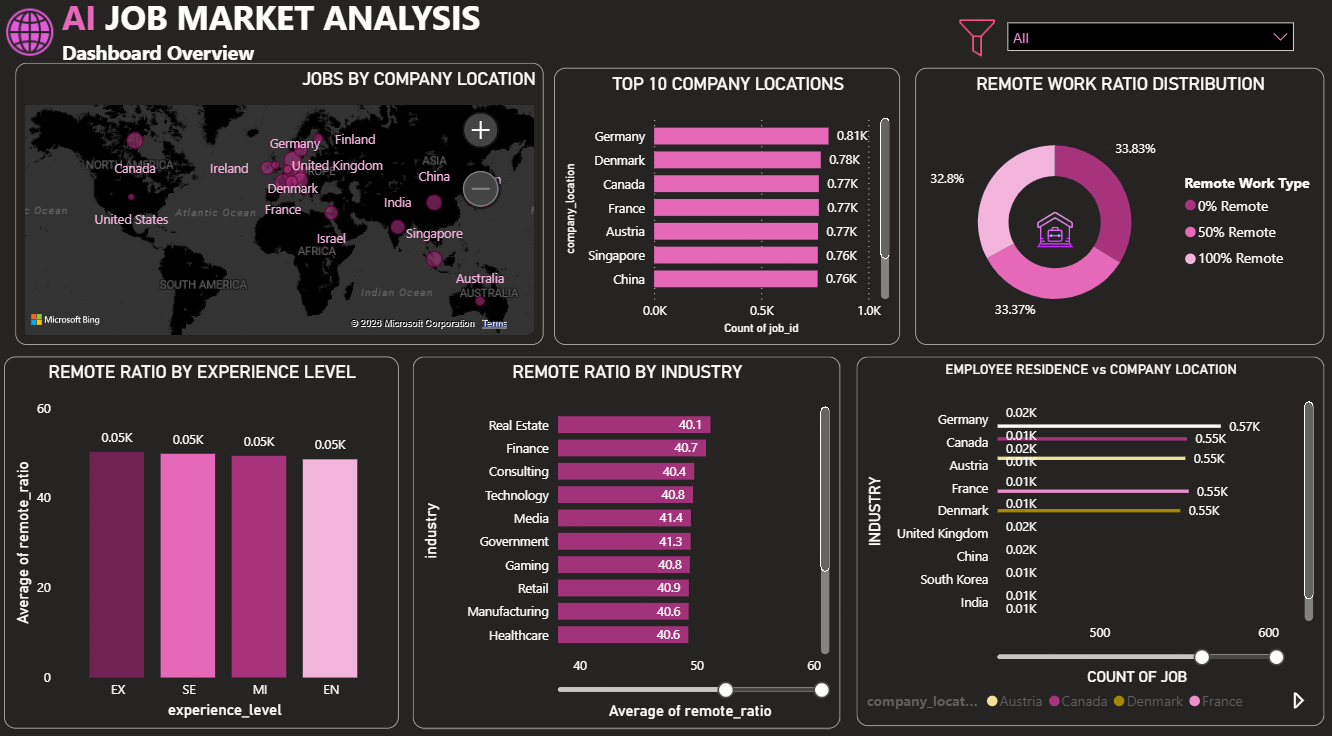

Layout of this report page (visuals, bound fields, positions):
{"tool":"powerbi","page":{"name":"location & Remote Work","canvas":[1280,720],"ordinal":3},"visuals":[{"type":"textbox","box":[59.5,0,533.3,97.6],"z":0},{"type":"image","box":[0,16.7,67.9,48.8],"z":1000},{"type":"map","title":"JOBS BY COMPANY LOCATION","fields":{"Category":["ai_job_dataset.company_location"],"Size":["CountNonNull(ai_job_dataset.job_id)"]},"box":[20.2,70.2,503.6,269],"z":2000},{"type":"clusteredBarChart","title":"TOP 10 COMPANY LOCATIONS","fields":{"Category":["ai_job_dataset.company_location"],"Y":["CountNonNull(ai_job_dataset.job_id)"]},"box":[533.3,75,329.8,264.3],"z":3000},{"type":"donutChart","title":"REMOTE WORK RATIO DISTRIBUTION","fields":{"Y":["CountNonNull(ai_job_dataset.job_id)"],"Category":["ai_job_dataset.Remote Work Type"]},"box":[877.4,75,389.3,264.3],"z":4000},{"type":"image","box":[985.7,208.3,50,41.7],"z":5000},{"type":"clusteredColumnChart","title":"REMOTE RATIO BY EXPERIENCE LEVEL","fields":{"Y":["Avg(ai_job_dataset.remote_ratio)"],"Category":["ai_job_dataset.experience_level"]},"box":[9.5,350,376.2,354.8],"z":6000},{"type":"clusteredBarChart","title":"REMOTE RATIO BY INDUSTRY","fields":{"Category":["ai_job_dataset.industry"],"Y":["Avg(ai_job_dataset.remote_ratio)"]},"box":[398.8,350,407.1,354.8],"z":7000},{"type":"clusteredBarChart","title":"EMPLOYEE RESIDENCE vs COMPANY LOCATION","fields":{"Category":["ai_job_dataset.employee_residence"],"Y":["CountNonNull(ai_job_dataset.job_id)"],"Series":["ai_job_dataset.company_location"]},"box":[821.4,350,445.2,352.4],"z":8000},{"type":"slicer","fields":{"Values":["ai_job_dataset.job_title"]},"box":[954.8,21.4,292.9,53.6],"z":9000},{"type":"image","box":[915.5,27.4,41.7,38.1],"z":10000}]}

Visuals, with their boxes in screenshot pixels (x1, y1, x2, y2), scaled from the page's 1280x720 canvas onto the 1332x736 screenshot:
textbox: [62,0,617,100]
image: [0,17,71,67]
"JOBS BY COMPANY LOCATION" map: [21,72,545,347]
"TOP 10 COMPANY LOCATIONS" clusteredBarChart: [555,77,898,347]
"REMOTE WORK RATIO DISTRIBUTION" donutChart: [913,77,1318,347]
image: [1026,213,1078,256]
"REMOTE RATIO BY EXPERIENCE LEVEL" clusteredColumnChart: [10,358,401,720]
"REMOTE RATIO BY INDUSTRY" clusteredBarChart: [415,358,839,720]
"EMPLOYEE RESIDENCE vs COMPANY LOCATION" clusteredBarChart: [855,358,1318,718]
slicer - ai_job_dataset.job_title: [994,22,1298,77]
image: [953,28,996,67]
